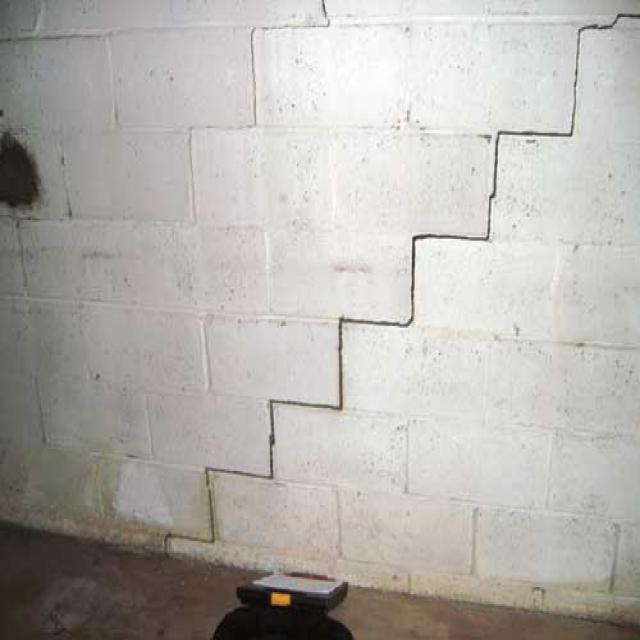Crack: (162, 9, 638, 546), (184, 0, 329, 222)
